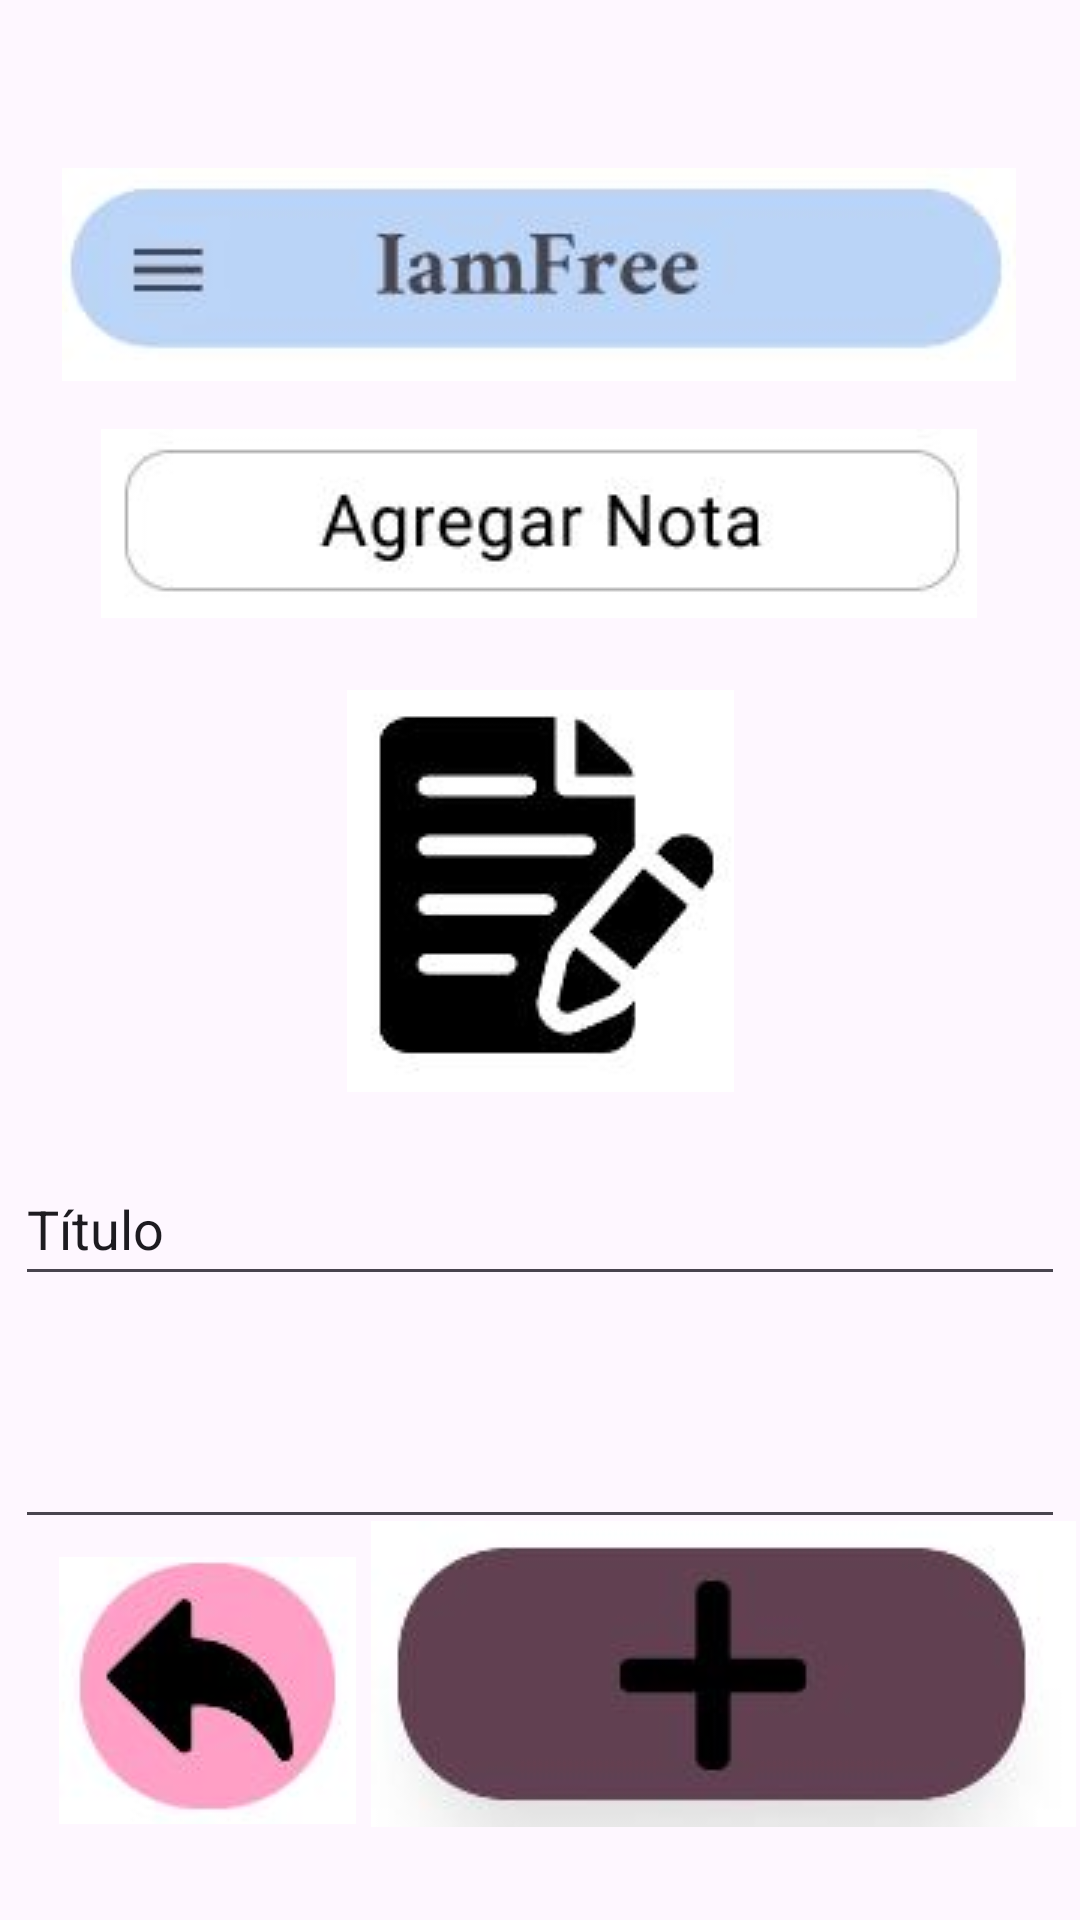

Icons on this 1080 × 1920 Android screen, each with its box as [x1=x1, y1=y1, x2=x2, y2=y2]:
atras: [x1=79, y1=1562, x2=336, y2=1810]
